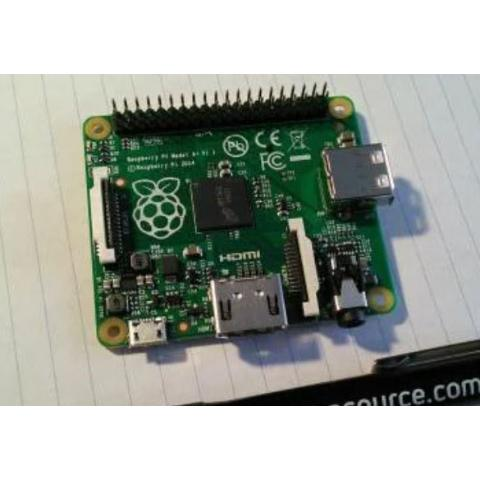Raspberry-Pi-1-Model-A-: (60, 76, 430, 366)
